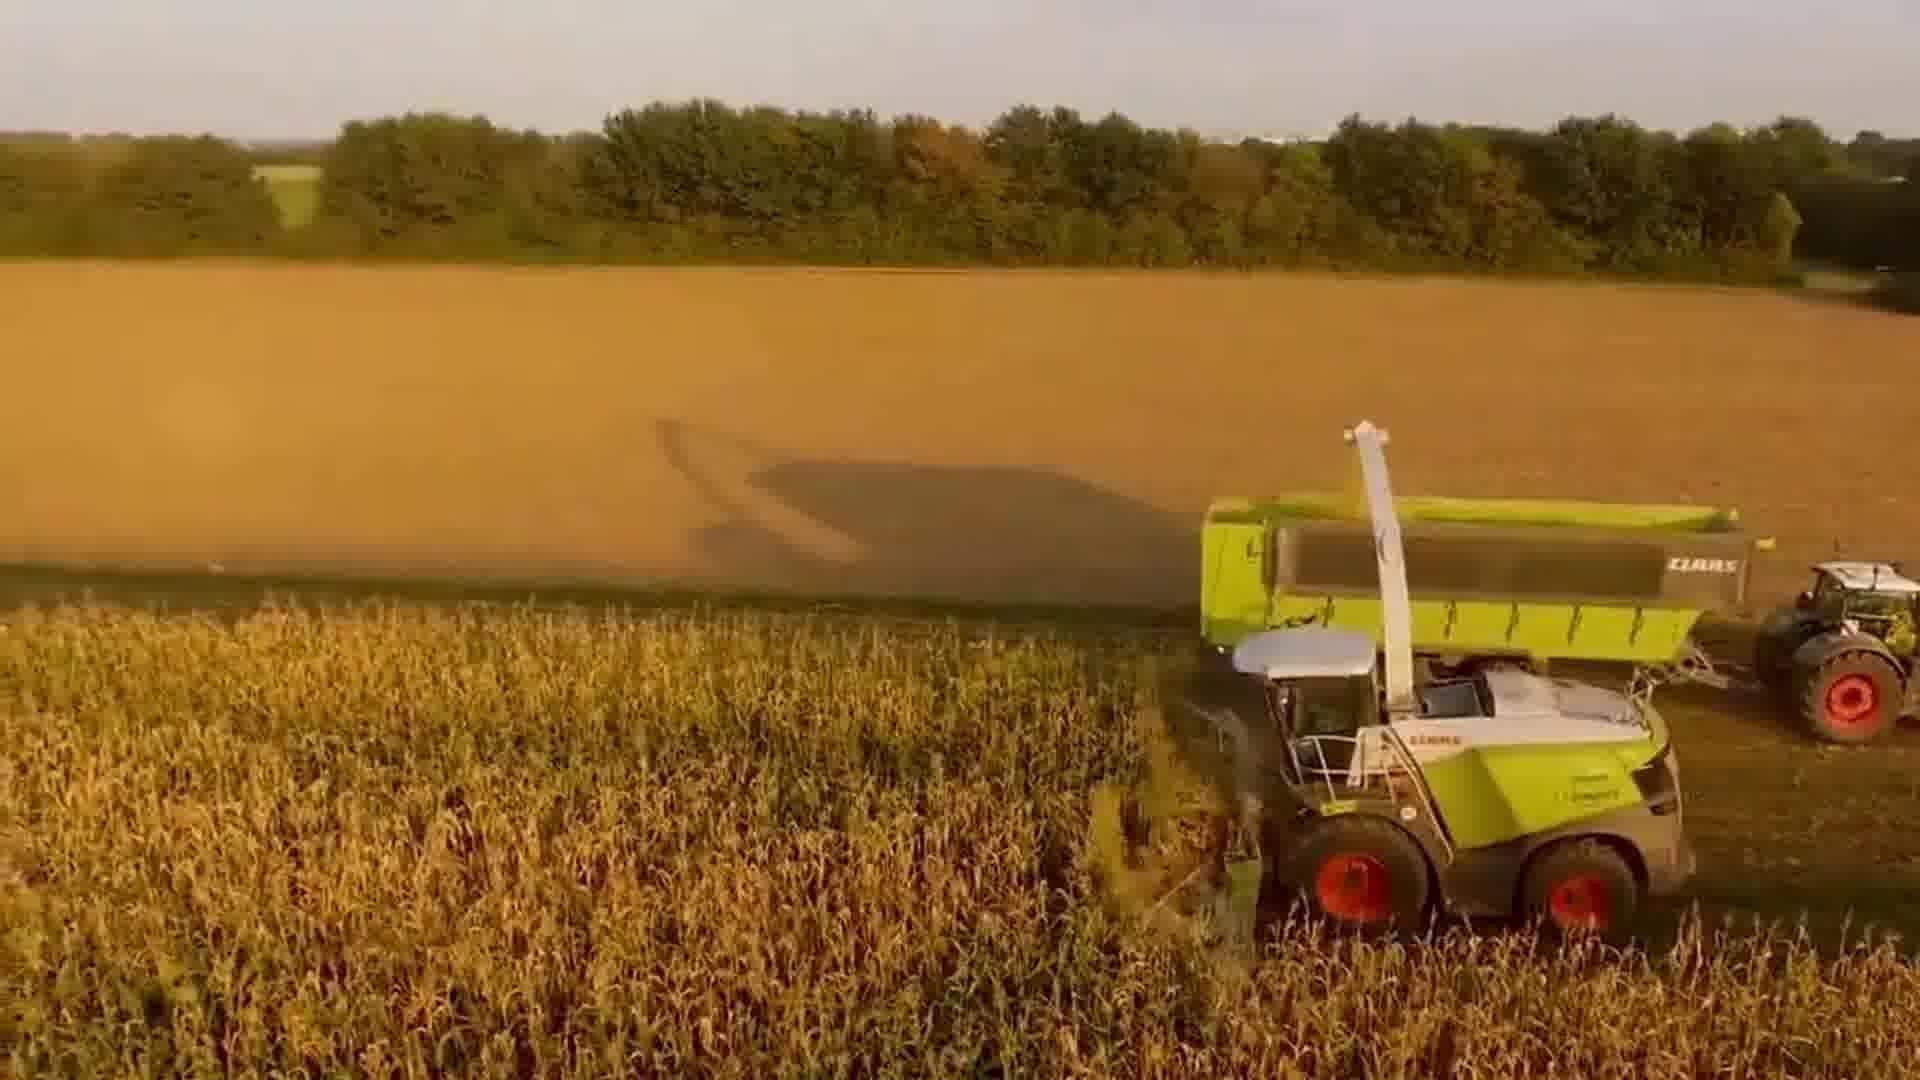combine harvester: (1172, 413, 1702, 961)
tractor: (1756, 537, 1920, 757)
trailer: (1191, 480, 1776, 705)
